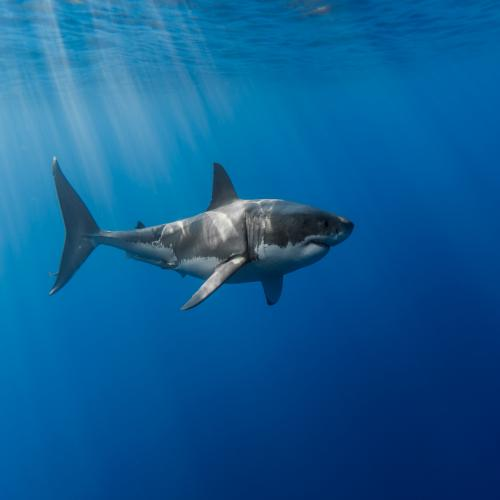shark-endangered: (94, 175, 356, 302)
